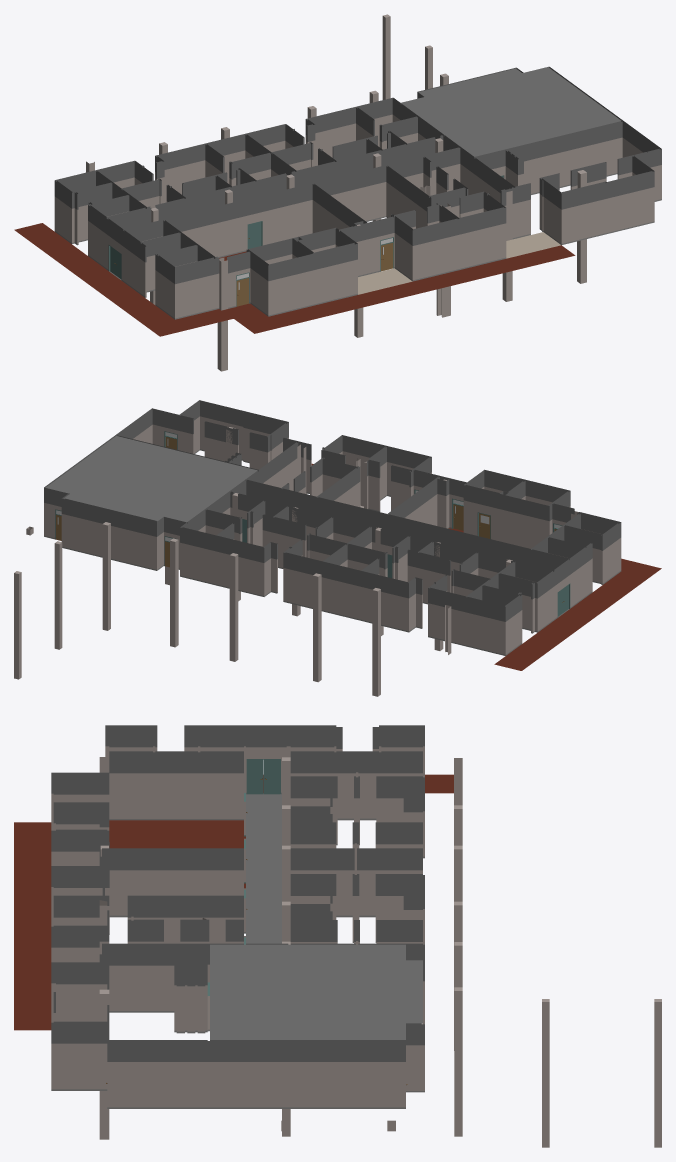
The model's file is EVL.fbx.
3 renders of one model, top to bottom at view 1: azimuth 30°, elevation 25°; view 2: azimuth 150°, elevation 25°; view 3: azimuth 270°, elevation 25°, orthographic. The views are drawn at different scales.
Visible parts, largest first — view 1: ERF-EVL-Walls, ERF-EVL-MainLabConcreteCeiling, Plane.002, ERF-B-SupportColumns, Plane.001; view 2: ERF-EVL-Walls, ERF-EVL-MainLabConcreteCeiling, ERF-B-SupportColumns, Plane.002; view 3: ERF-EVL-Walls, ERF-EVL-MainLabConcreteCeiling, ERF-B-SupportColumns, ERF-EVL-CorridorFloor, Plane.001, ERF-EVL-CyberCommonsFloor, Plane.002, ERF-DoubleDoorR.002.
Part boxes in pixels (x1,y1,x2,y2): ERF-EVL-Walls: (54,66,661,319); ERF-EVL-MainLabConcreteCeiling: (401,67,621,156); Plane.002: (14,223,371,336); ERF-B-SupportColumns: (86,14,586,371); Plane.001: (358,232,575,305); ERF-EVL-Walls: (44,400,621,655); ERF-EVL-MainLabConcreteCeiling: (45,436,257,522); ERF-B-SupportColumns: (14,427,578,696); Plane.002: (494,558,661,670); ERF-EVL-Walls: (51,725,424,1108); ERF-EVL-MainLabConcreteCeiling: (210,944,422,1039); ERF-B-SupportColumns: (99,757,661,1147); ERF-EVL-CorridorFloor: (246,793,281,943); Plane.001: (14,898,51,1030); ERF-EVL-CyberCommonsFloor: (109,820,245,888); Plane.002: (14,774,453,898); ERF-DoubleDoorR.002: (247,759,263,794).
Bounding box in the file's own units: 46.19 × 9.21 × 36.27.
